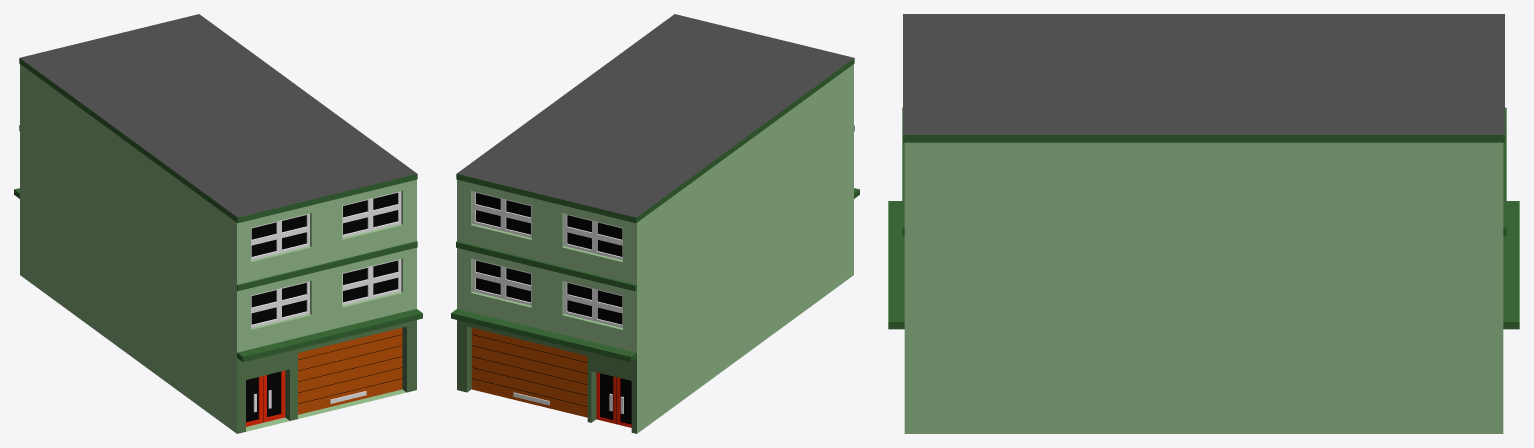
The picture shows the model from 3 angles, left to right: view 1: azimuth 30°, elevation 25°; view 2: azimuth 150°, elevation 25°; view 3: azimuth 270°, elevation 25°; orthographic projection. The views are drawn at different scales.
Parts seen in each view (by area): view 1: BB-018; view 2: BB-018; view 3: BB-018.
Boxes of the visible parts, x1,y1,x2,y2 form: BB-018: (14,14,422,433); BB-018: (451,14,859,433); BB-018: (888,14,1519,433).
Size of what is drawn, in the model's own units: 8 by 9.22 by 17.64.
